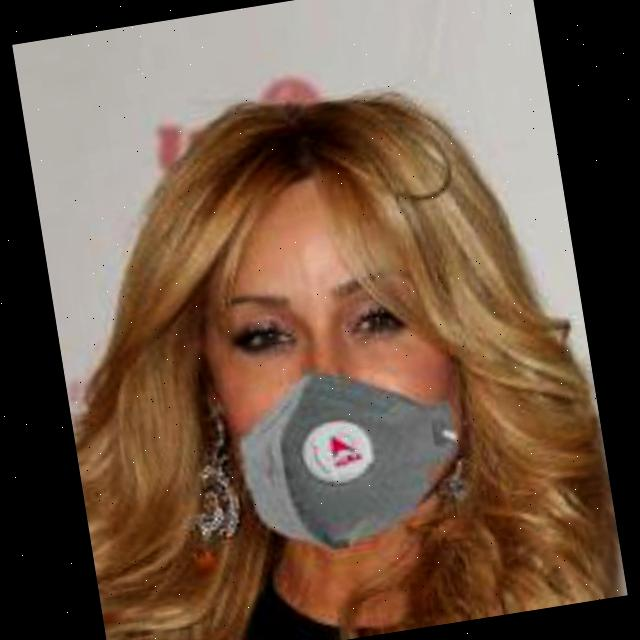suspicion: (149, 115, 535, 560)
